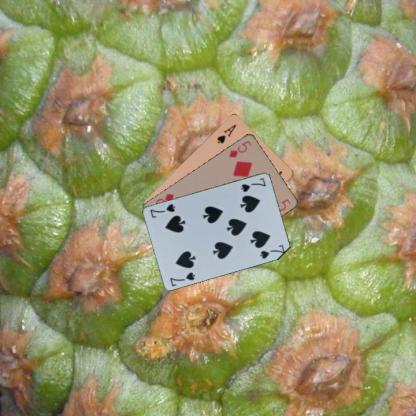5d: (227, 137, 253, 159)
7s: (238, 175, 267, 193), (168, 269, 196, 287)
As: (214, 121, 237, 144)
